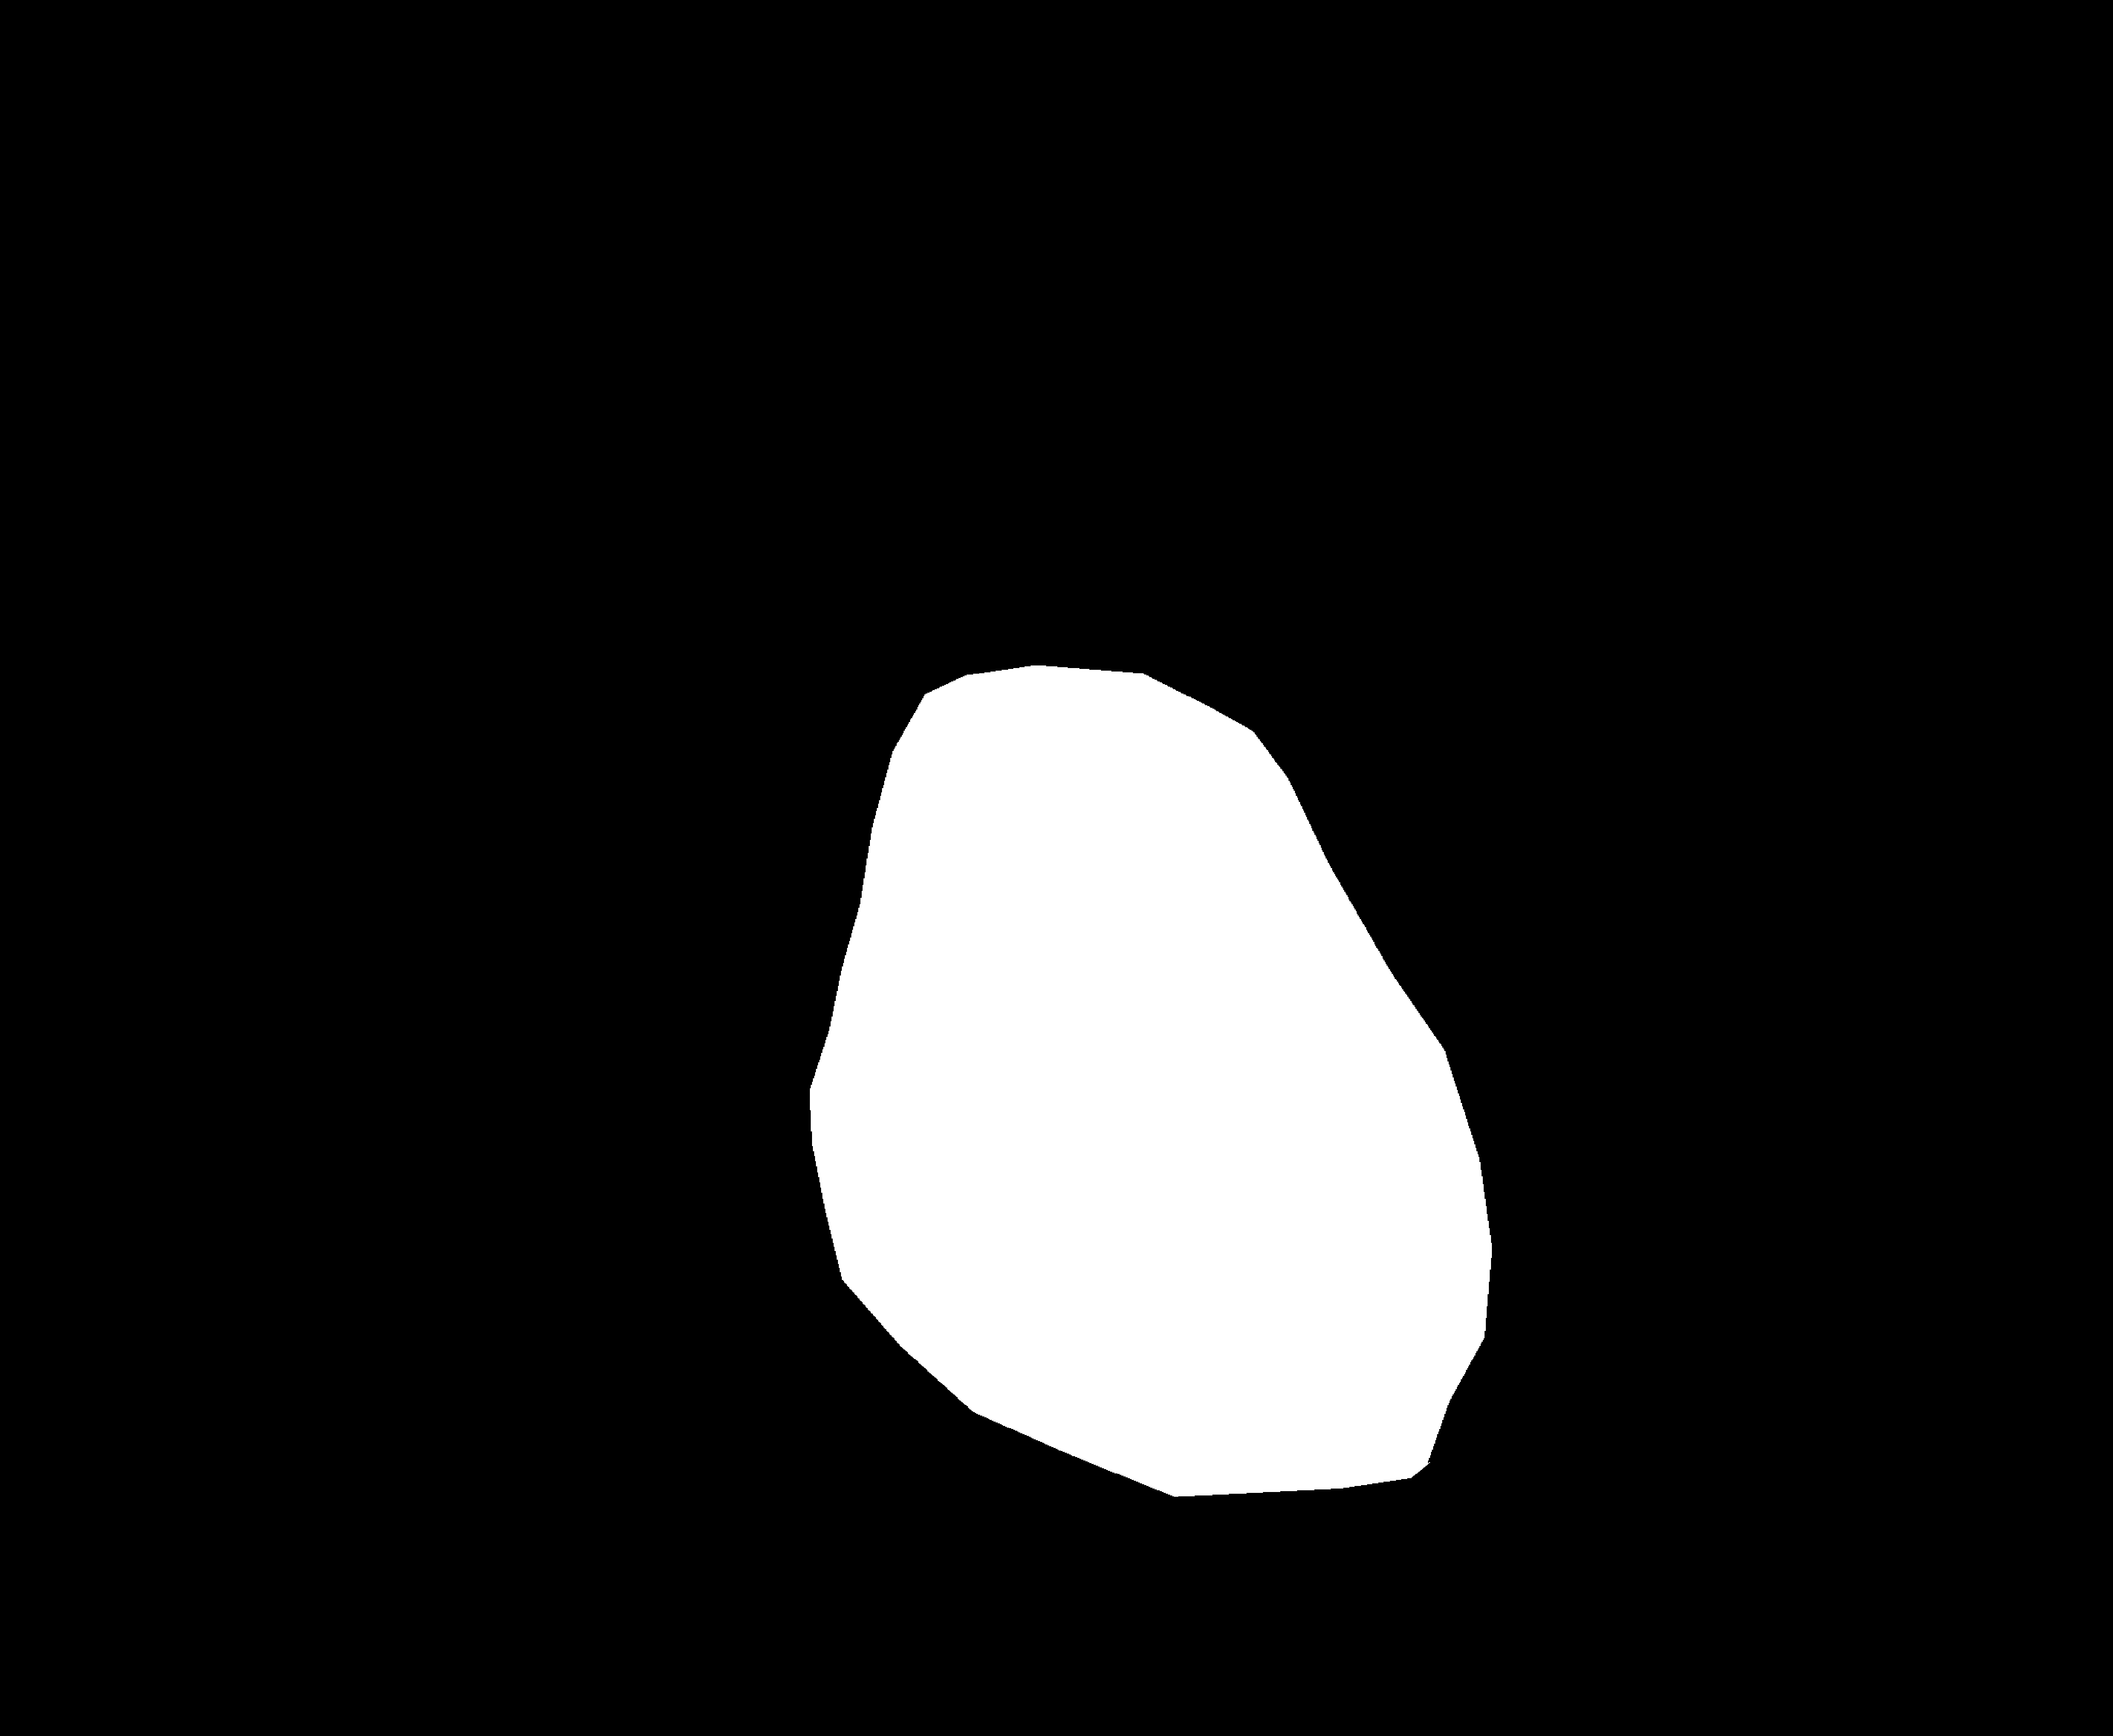heart: (772, 1243, 1439, 1722)
left_lung: (528, 493, 1042, 1731)
right_lung: (1197, 467, 1783, 1734)
